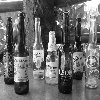beer: (11, 13, 30, 98)
